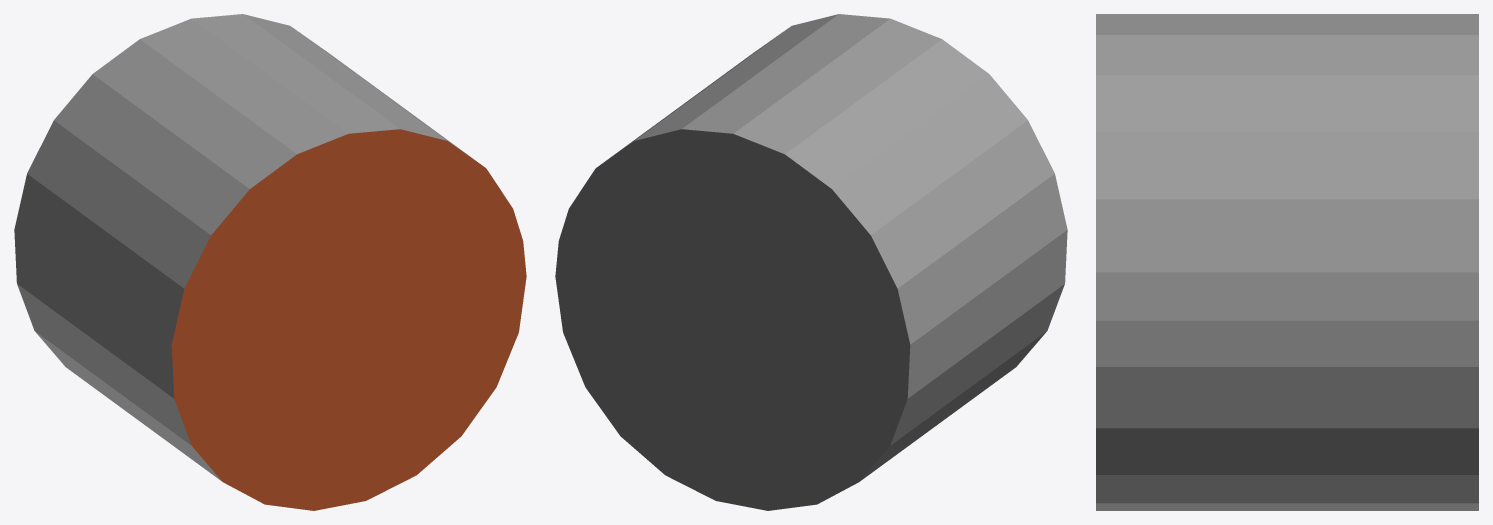
The model's file is construction_6304_assumed_A_Casa_h6m.obj.
3 views of the same model, side by side, from view 1: azimuth 30°, elevation 25°; view 2: azimuth 150°, elevation 25°; view 3: azimuth 270°, elevation 25° (orthographic). The views are drawn at different scales.
Visible parts, largest first — view 1: construction_6304_assumed_A_Casa; view 2: construction_6304_assumed_A_Casa; view 3: construction_6304_assumed_A_Casa.
Boxes of the visible parts, box(x1,y1,x2,y2) form: construction_6304_assumed_A_Casa: box(14, 14, 526, 510); construction_6304_assumed_A_Casa: box(555, 14, 1067, 510); construction_6304_assumed_A_Casa: box(1096, 14, 1478, 510).
Bounding box in the file's own units: 7.82 × 7.82 × 6.
